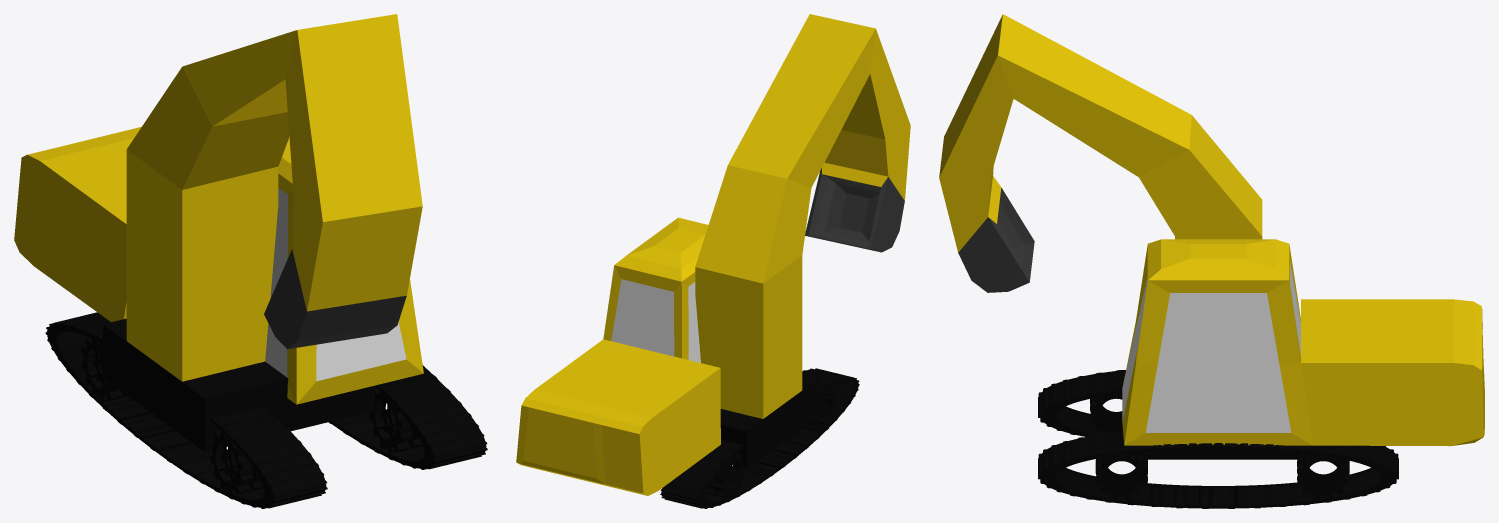
The model's file is exavetor.fbx.
3 renders of one model, left to right at view 1: azimuth 30°, elevation 25°; view 2: azimuth 150°, elevation 25°; view 3: azimuth 270°, elevation 25°, orthographic. The views are drawn at different scales.
Visible parts, largest first — view 1: 立方体.018; view 2: 立方体.018; view 3: 立方体.018.
Boxes of the visible parts, x1,y1,x2,y2 form: 立方体.018: (14, 14, 487, 508); 立方体.018: (516, 14, 910, 508); 立方体.018: (939, 14, 1484, 508).
Size of the model in its own units: 139 by 306 by 366.
